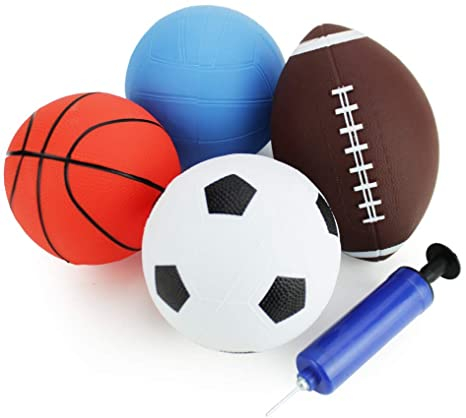ball: (260, 8, 447, 265), (130, 150, 360, 358), (4, 88, 188, 270), (118, 2, 293, 184)
